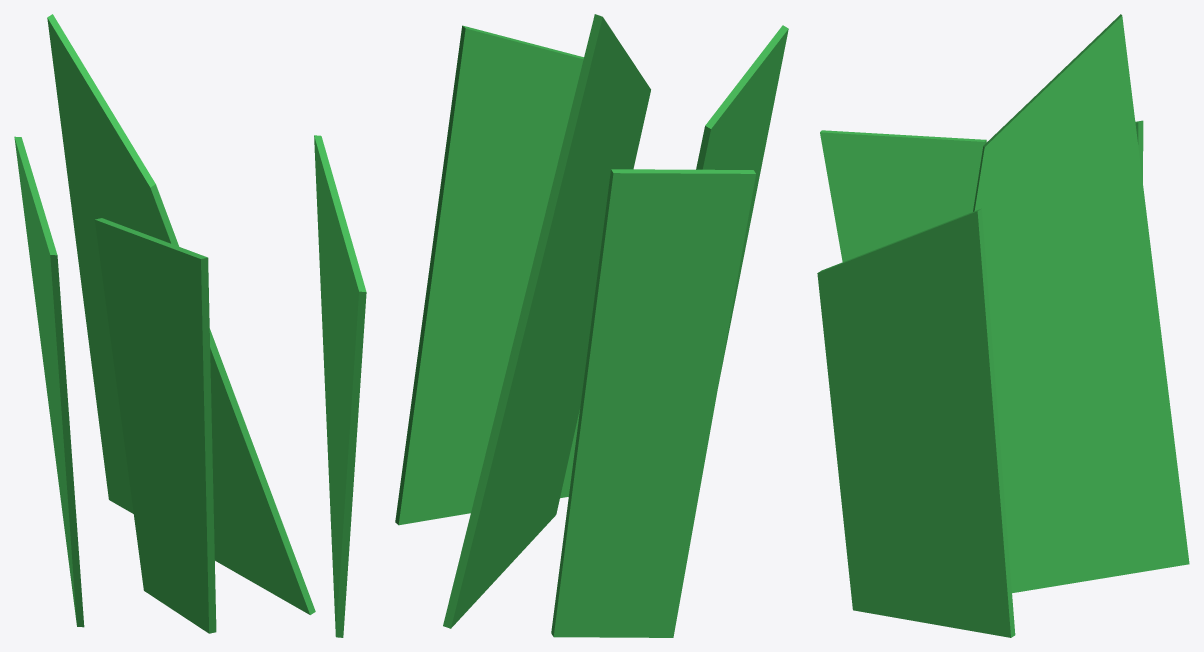
File: Grass_2.fbx
3 views of the same model, side by side, from view 1: azimuth 30°, elevation 25°; view 2: azimuth 150°, elevation 25°; view 3: azimuth 270°, elevation 25° (orthographic). The views are drawn at different scales.
Visible parts, largest first — view 1: pCube6; view 2: pCube6; view 3: pCube6.
Part boxes in pixels (box(x1,y1,x2,y2)): pCube6: box(14, 14, 366, 637); pCube6: box(395, 14, 788, 637); pCube6: box(817, 14, 1189, 637).
Size of the model in its own units: 117 by 210 by 131.
